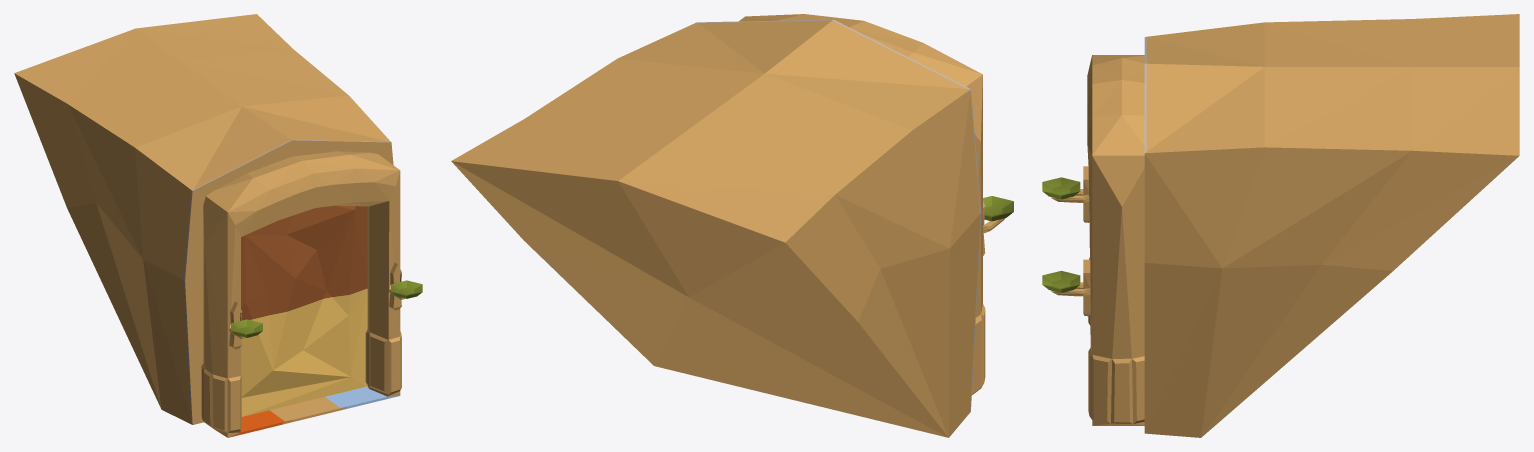
The model's file is PuzzleRoomGateExtended3.fbx.
3 renders of one model, left to right at view 1: azimuth 30°, elevation 25°; view 2: azimuth 150°, elevation 25°; view 3: azimuth 270°, elevation 25°, orthographic. The views are drawn at different scales.
Parts seen in each view (by area): view 1: PuzzleRoomGate:PuzzleRoomGateExtended; view 2: PuzzleRoomGate:PuzzleRoomGateExtended; view 3: PuzzleRoomGate:PuzzleRoomGateExtended.
Boxes of the visible parts, box(x1,y1,x2,y2) form: PuzzleRoomGate:PuzzleRoomGateExtended: box(14, 14, 422, 437); PuzzleRoomGate:PuzzleRoomGateExtended: box(451, 14, 1013, 437); PuzzleRoomGate:PuzzleRoomGateExtended: box(1042, 14, 1519, 437).
Size of the model in its own units: 9.11 by 9.34 by 12.97.
